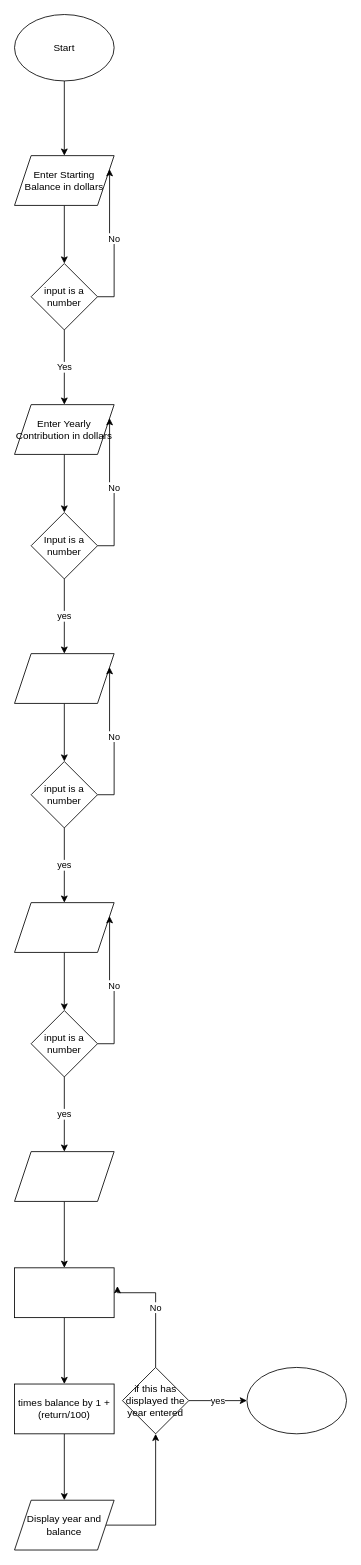
Image size: 361x1565. Some labels were removed from this diagram. The centre of each missing label's shape, as x and y in pixels:
Add contribution to balance: the point at 64,1292
Display "Year 0:" + balance: the point at 64,1176
End: the point at 296,1400
Enter Average Return on Investment as %: the point at 64,678
Enter Number of Years for the report: the point at 64,927
